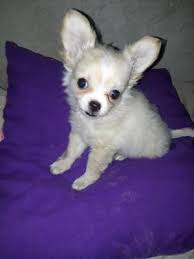chihuahua: (42, 4, 183, 205)
